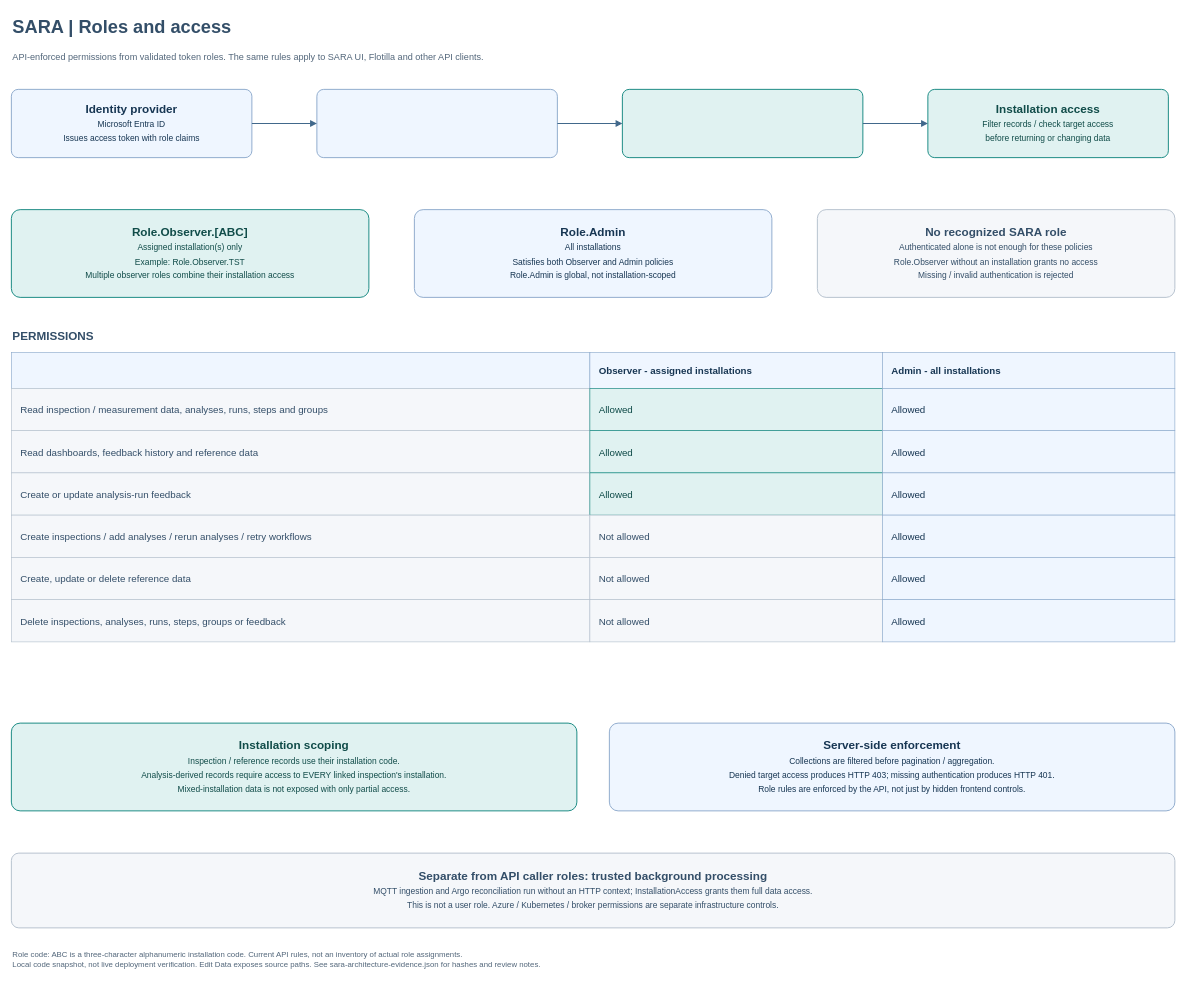
Some shapes in this 1193 by 987 pixel diagram are drawn without their labels. The shapes that lost their labels are listed below. From the top down, each one's centre as x and y in pixels, then its label:
point (437, 123): JWT authentication Validate the bearer token Establish the caller's identity
point (742, 123): Endpoint policy Installation.Observer or Installation.Admin
point (300, 370): Operation
